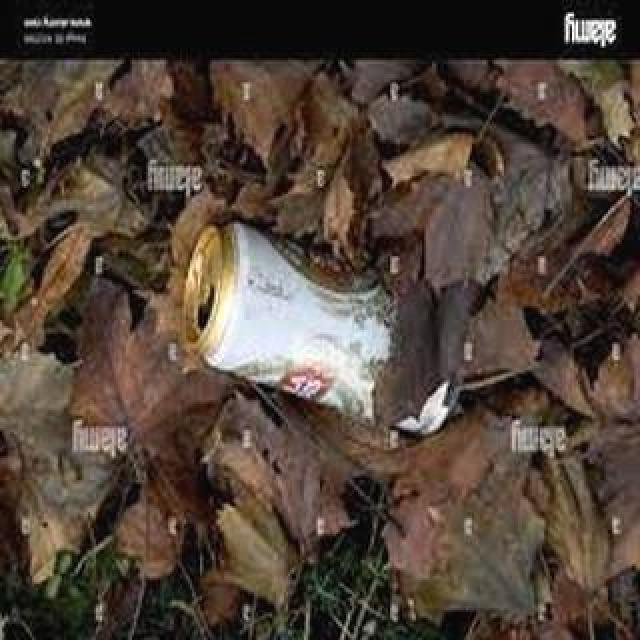Can: (171, 210, 477, 428)
